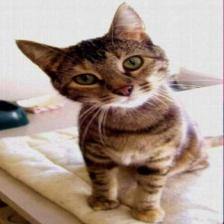cat: (12, 5, 193, 113)
